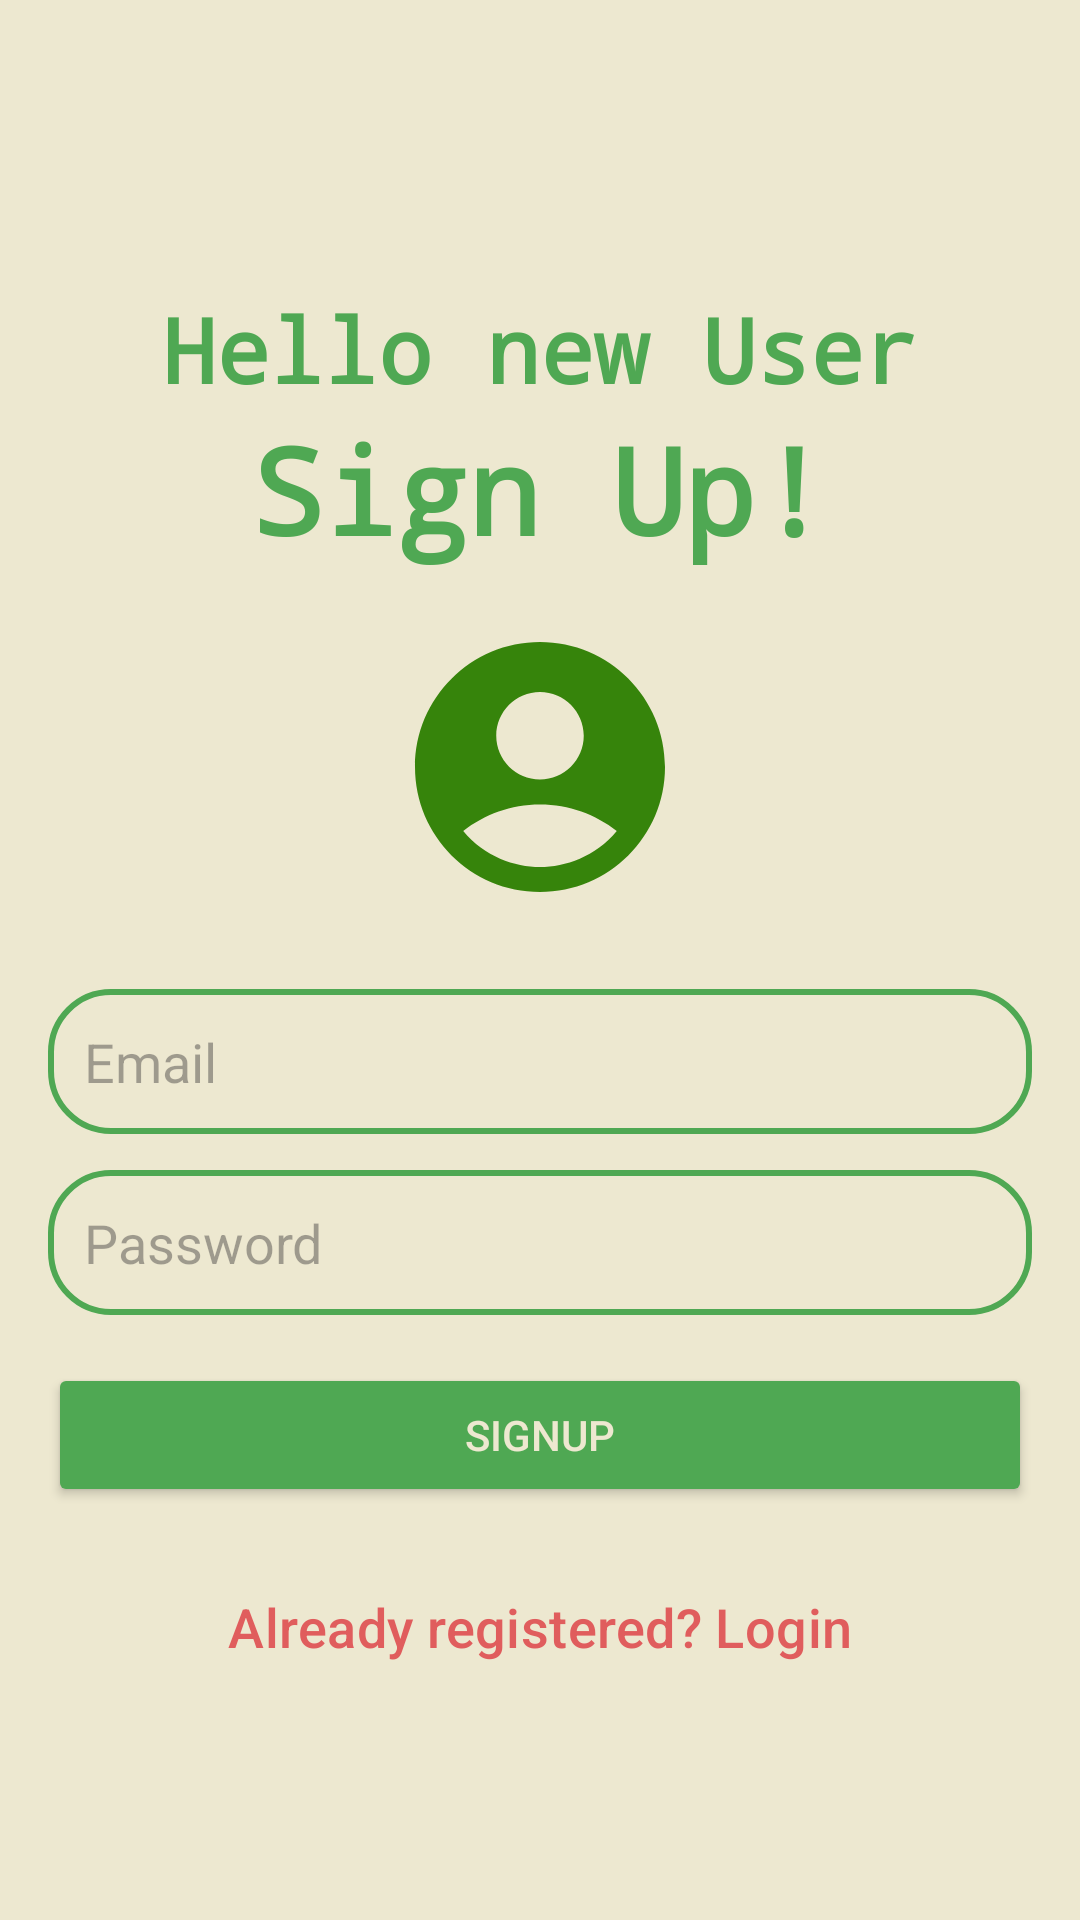

Icons on this 1080 × 1920 Android screen, each with its box as (x1=x1, y1=y1, x2=x2, y2=y2):
account circle: (x1=415, y1=642, x2=665, y2=892)
